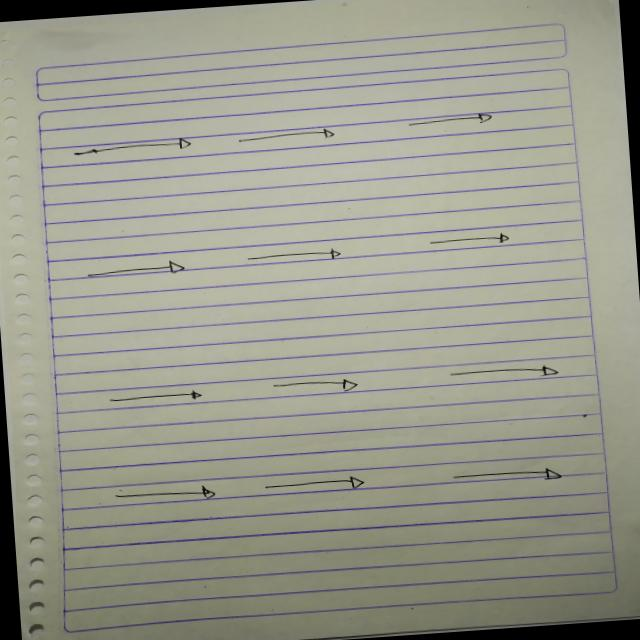arrow_line_up: (276, 372, 336, 482), (294, 498, 344, 608), (253, 88, 303, 192), (428, 219, 476, 319), (105, 520, 151, 624), (420, 77, 465, 182), (94, 240, 135, 350), (449, 366, 488, 475), (98, 398, 140, 498), (270, 236, 312, 329), (459, 488, 495, 592), (80, 104, 117, 205)
